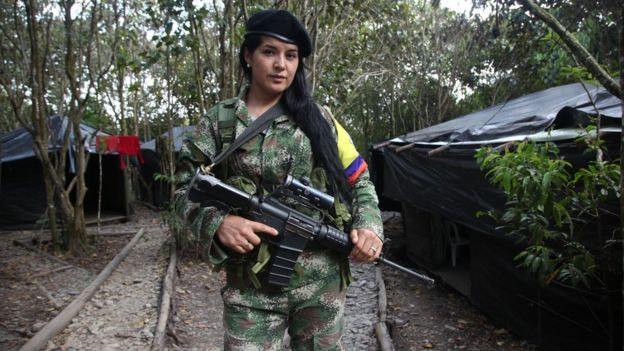Arma Real: (183, 167, 441, 294)
